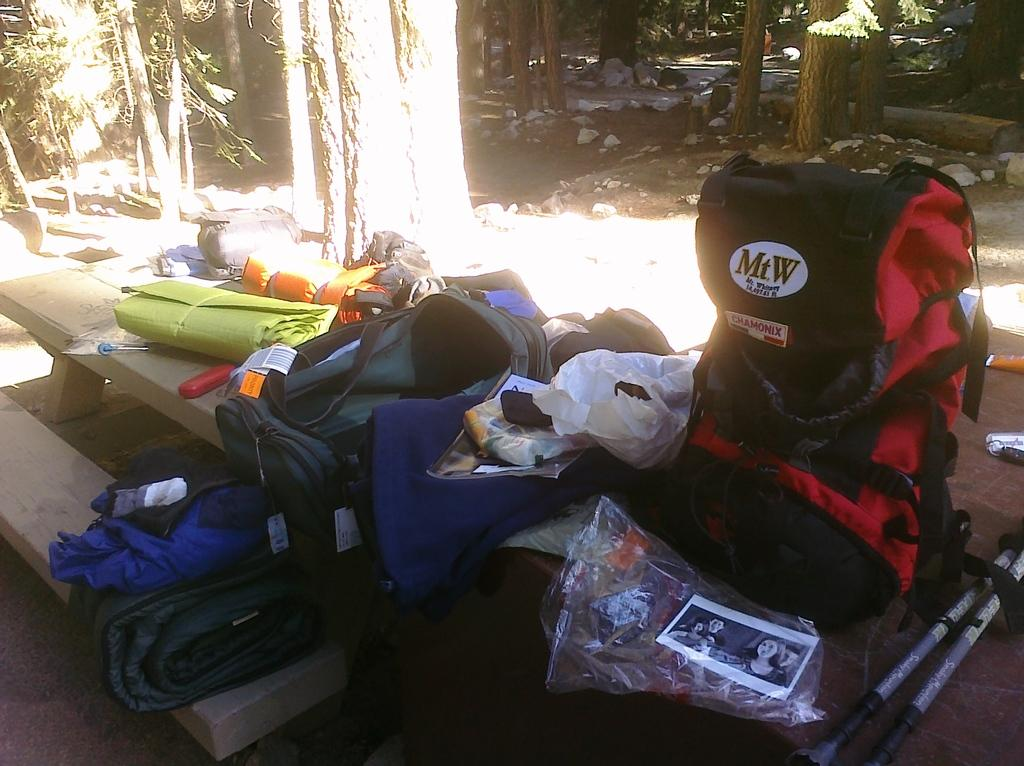Luggage-and-bags: (663, 138, 971, 651), (218, 286, 552, 567), (234, 239, 426, 327), (196, 211, 295, 276), (369, 229, 436, 291)
